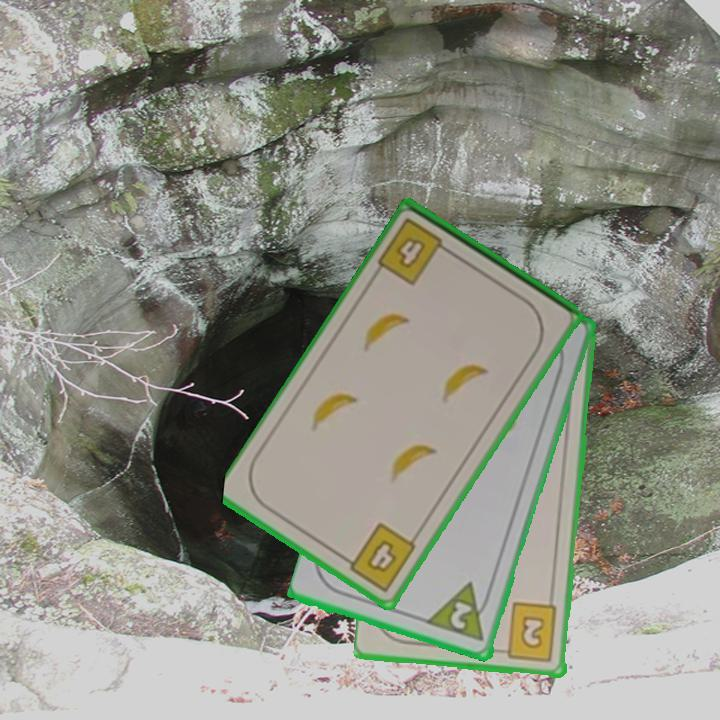2b: (495, 600, 560, 665)
2p: (425, 579, 495, 646)
4b: (374, 214, 456, 289), (339, 519, 419, 595)
